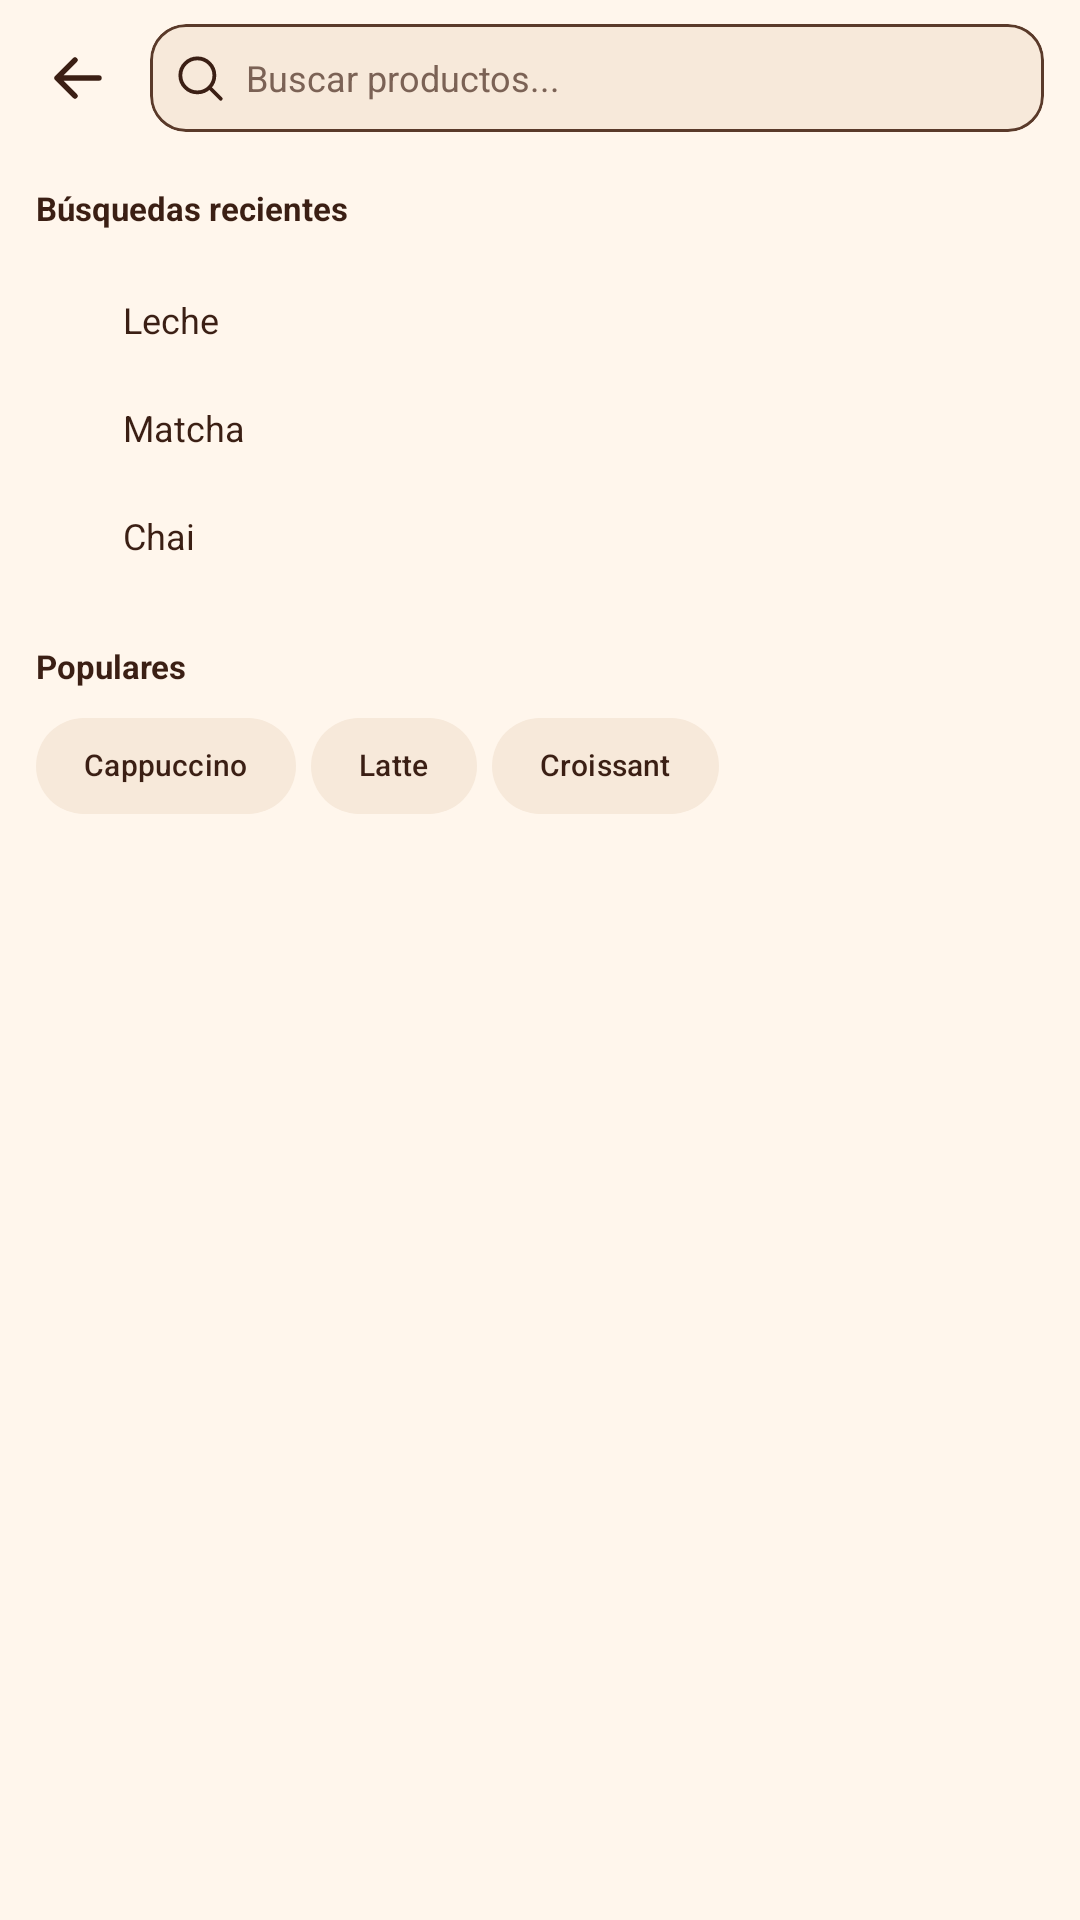

Icon bounding boxes for this 1080w x 1920h phone screenshot, format (x1, y1, x2, y2):
Regresar: (54, 57, 102, 99)
